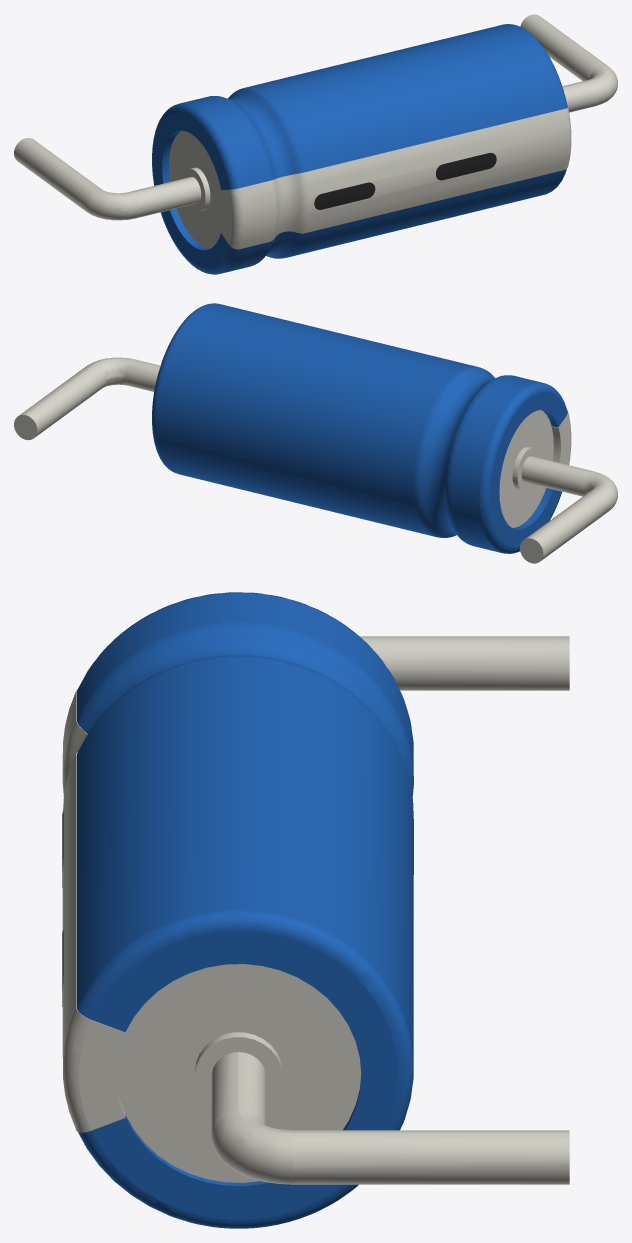
The model's file is CP_Axial_L10.0mm_D4.5mm_P15.00mm_Horizontal.glb.
The picture shows the model from 3 angles, top to bottom: view 1: azimuth 30°, elevation 25°; view 2: azimuth 150°, elevation 25°; view 3: azimuth 270°, elevation 25°; orthographic projection. The views are drawn at different scales.
Parts seen in each view (by area): view 1: CP_Axial_L100mm_D45mm_P1500mm_Horizontal; view 2: CP_Axial_L100mm_D45mm_P1500mm_Horizontal; view 3: CP_Axial_L100mm_D45mm_P1500mm_Horizontal.
Part boxes in pixels (x1,y1,x2,y2): CP_Axial_L100mm_D45mm_P1500mm_Horizontal: (14, 14, 617, 274); CP_Axial_L100mm_D45mm_P1500mm_Horizontal: (14, 303, 617, 563); CP_Axial_L100mm_D45mm_P1500mm_Horizontal: (62, 592, 569, 1228).
Bounding box in the file's own units: 15.69 × 4.5 × 6.51.
